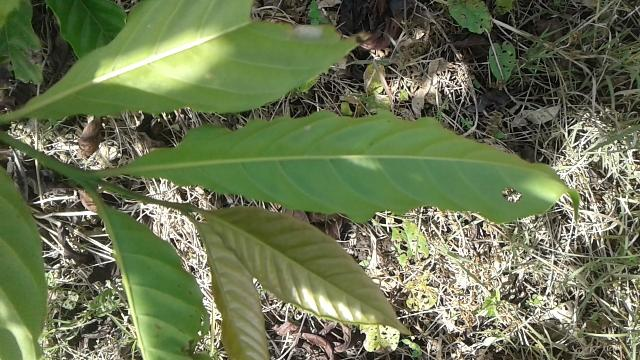healthy: (124, 106, 583, 228)
